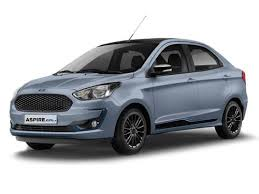Ford: (9, 35, 248, 153)
